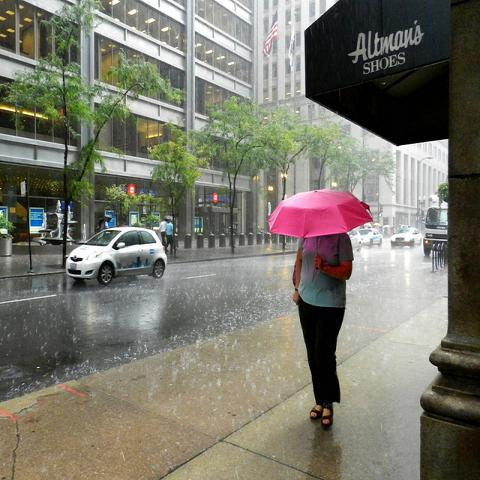car: (66, 227, 167, 284), (390, 226, 424, 248), (358, 228, 383, 248), (347, 230, 364, 252)
truck: (423, 206, 448, 256)
